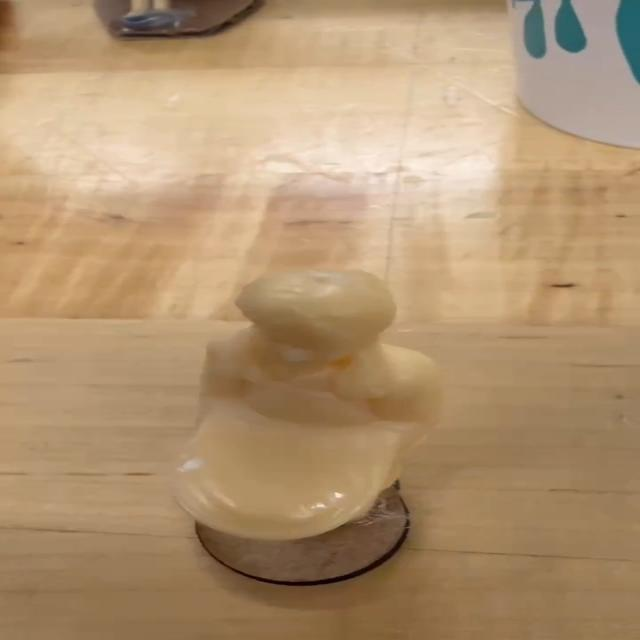Unauthorized: (131, 255, 445, 586)
